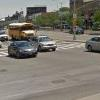Car: (4, 34, 58, 65)
